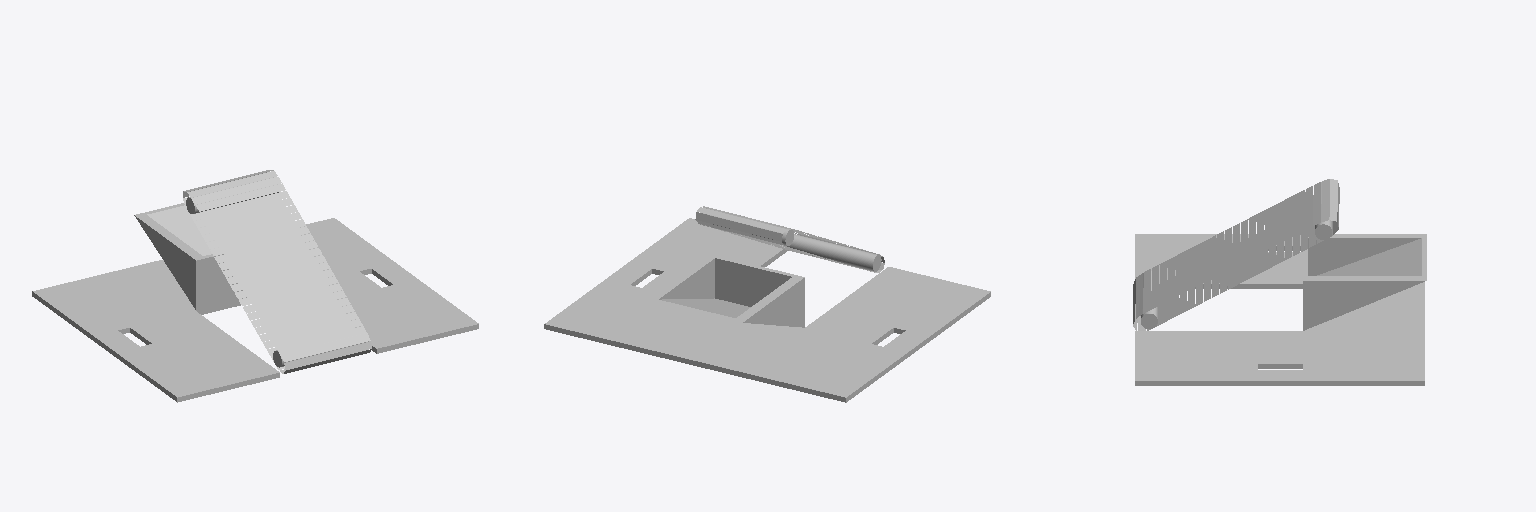
File: BARQUIDOU SIN FLOTADOR 1.obj
The picture shows the model from 3 angles: view 1: azimuth 30°, elevation 25°; view 2: azimuth 150°, elevation 25°; view 3: azimuth 270°, elevation 25°; orthographic projection.
Size of the model in its own units: 125 by 44.91 by 106.